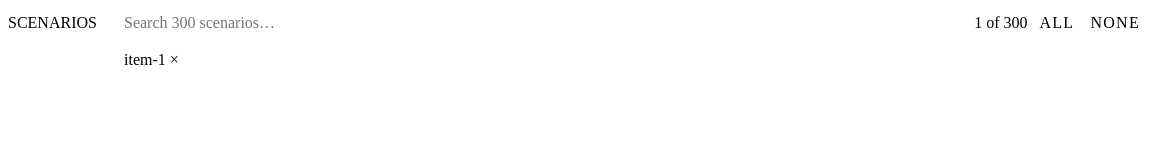
Test: FieldPicker — large field › searches the whole field, not just the selection
In the search field: (242, 23) [112, 8, 372, 38], type "item-250"
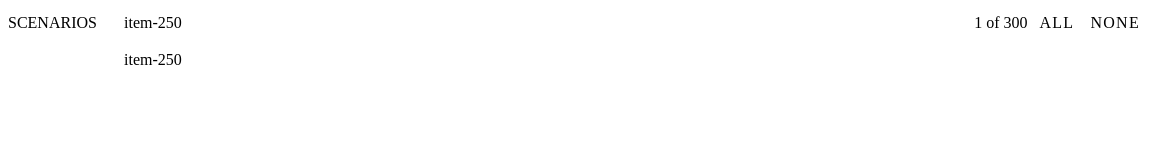
Expected: the option "item-250" is shown, [112, 46, 194, 74]
